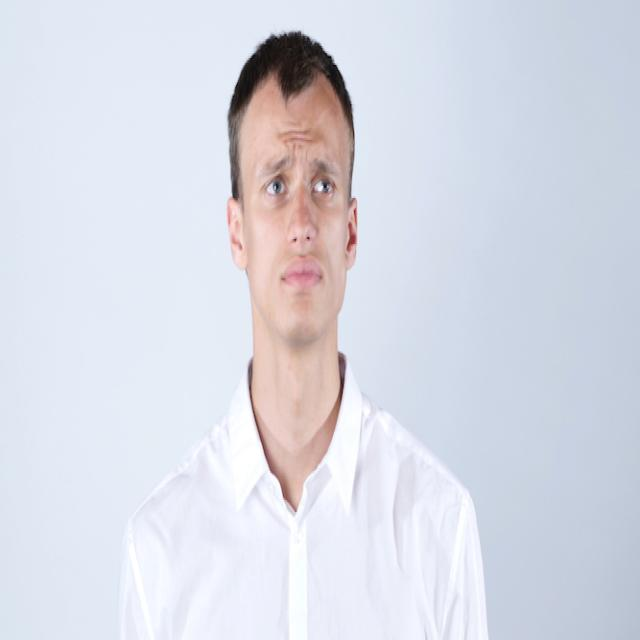human: (111, 29, 492, 640)
